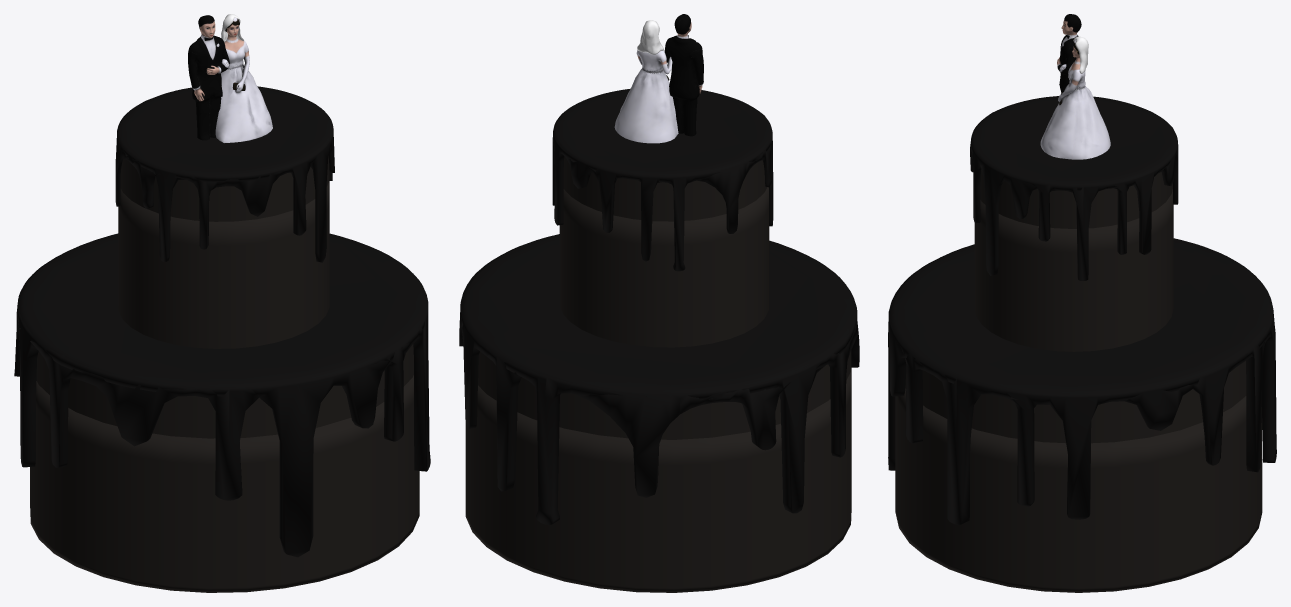
Rendered from 2-tier-black-ganache-bridegroom.glb.
The picture shows the model from 3 angles, left to right: view 1: azimuth 30°, elevation 25°; view 2: azimuth 150°, elevation 25°; view 3: azimuth 270°, elevation 25°; orthographic projection. The views are drawn at different scales.
Parts seen in each view (by area): view 1: Cylinder.023, tHE ICING.004, Cylinder.013, tHE ICING.003, 13501_Cake_Topper_Bride_Groom_v1_L1.003; view 2: Cylinder.023, tHE ICING.004, Cylinder.013, tHE ICING.003, 13501_Cake_Topper_Bride_Groom_v1_L1.003; view 3: Cylinder.023, tHE ICING.004, Cylinder.013, tHE ICING.003, 13501_Cake_Topper_Bride_Groom_v1_L1.003.
Part boxes in pixels (x1,y1,x2,y2): Cylinder.023: (30, 344, 419, 592); tHE ICING.004: (14, 233, 430, 557); Cylinder.013: (118, 156, 329, 348); tHE ICING.003: (115, 86, 334, 262); 13501_Cake_Topper_Bride_Groom_v1_L1.003: (188, 14, 272, 142); Cylinder.023: (465, 350, 851, 592); tHE ICING.004: (459, 234, 859, 525); Cylinder.013: (559, 156, 769, 347); tHE ICING.003: (552, 88, 773, 271); 13501_Cake_Topper_Bride_Groom_v1_L1.003: (614, 14, 703, 143); Cylinder.023: (895, 361, 1262, 592); tHE ICING.004: (888, 238, 1276, 525); Cylinder.013: (974, 169, 1173, 351); tHE ICING.003: (970, 96, 1178, 280); 13501_Cake_Topper_Bride_Groom_v1_L1.003: (1040, 14, 1110, 159).
Size of the model in its own units: 3.53 by 4.79 by 3.46.
3 materials, 1 textured.
